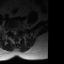CCS_normal: (14, 28, 16, 35)
LFS_normal: (17, 27, 19, 32)
LLS_normal: (15, 28, 17, 35)
RFS_severe_stenosis: (10, 28, 12, 33)
RLS_normal: (12, 29, 14, 34)
